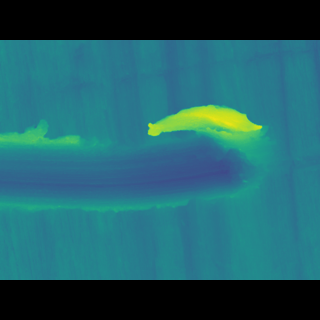Loch: (0, 116, 277, 201)
